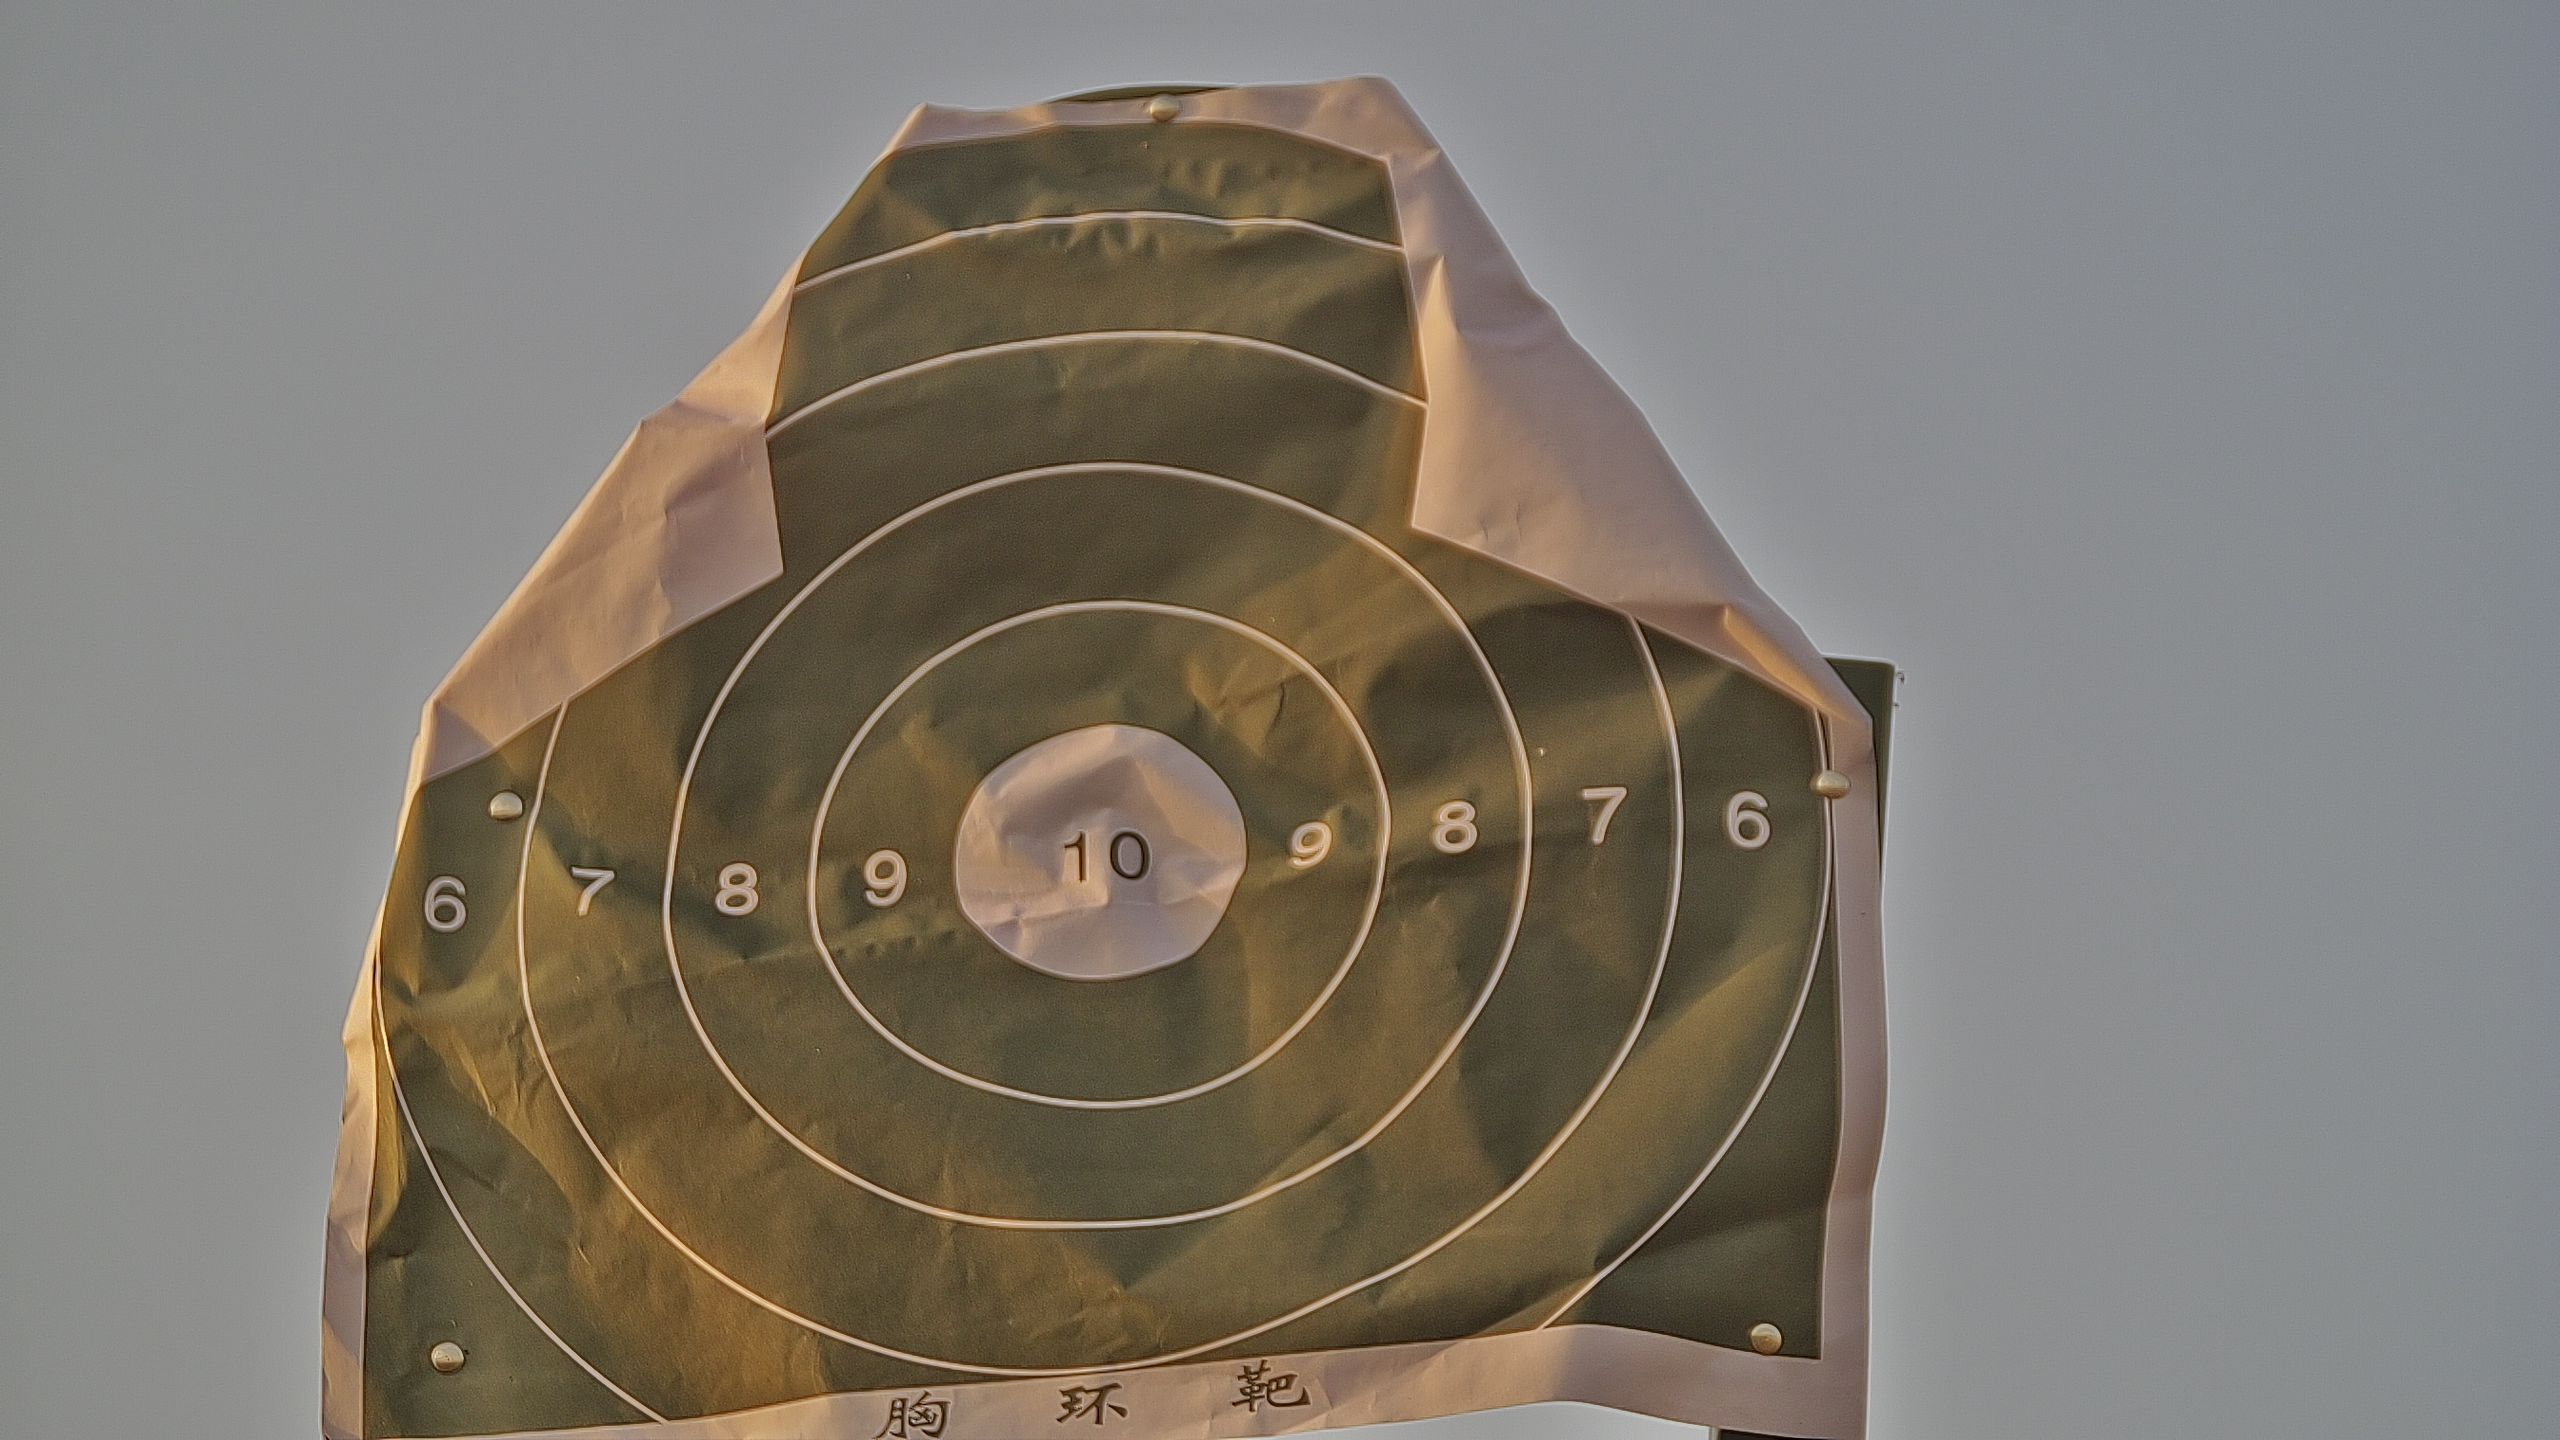kernel: (1097, 858, 1101, 863)
target: (346, 121, 1844, 1440)
ten: (951, 719, 1247, 983)
